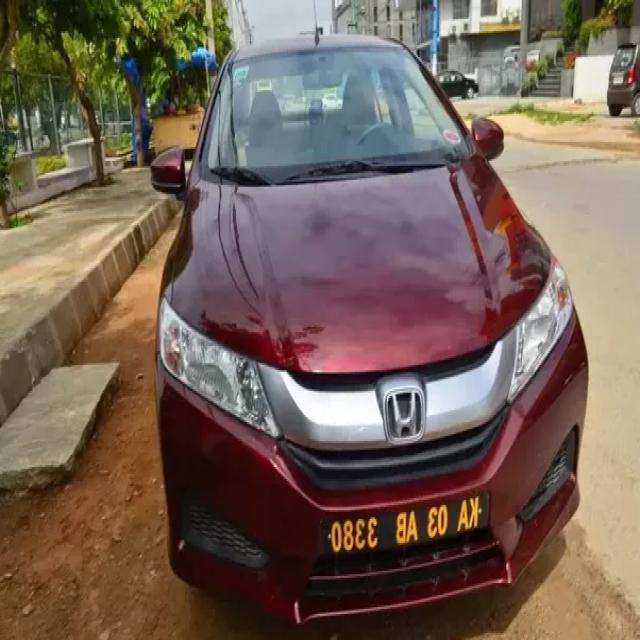license_plate: (313, 480, 497, 568)
